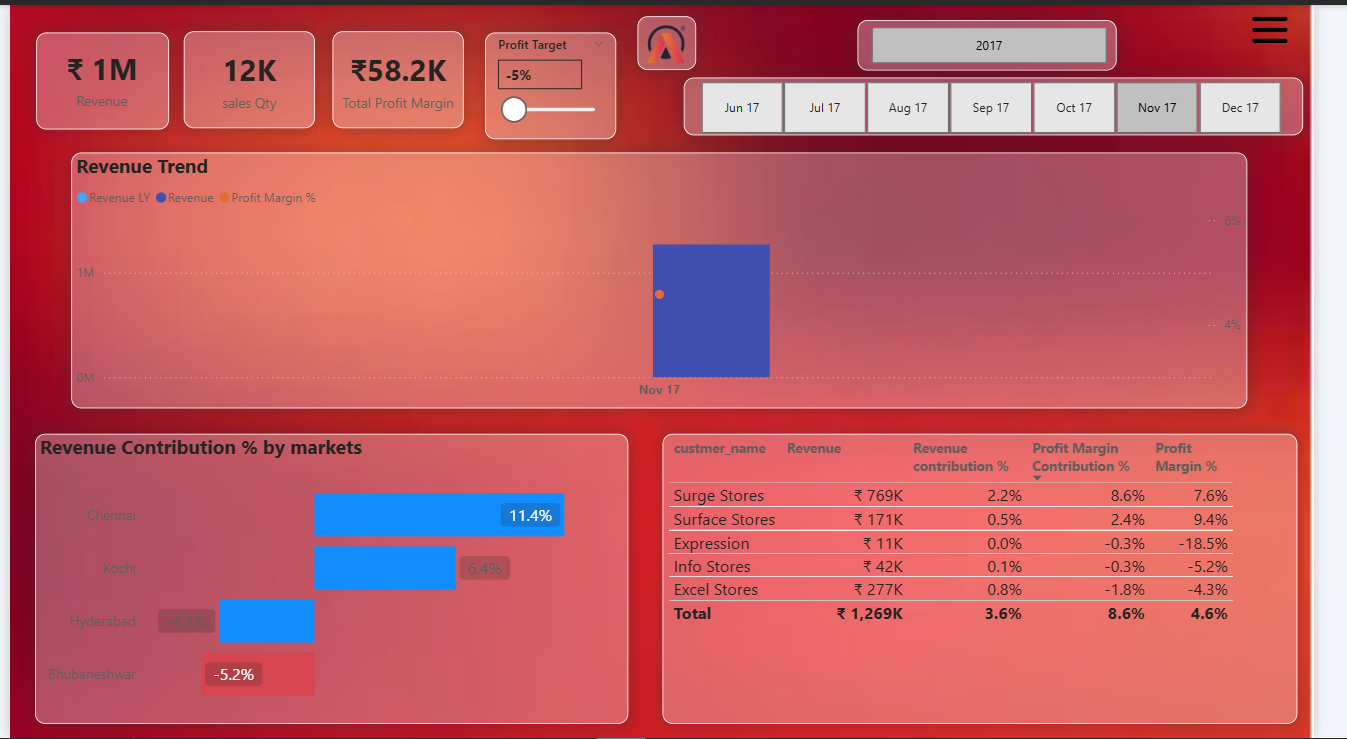

The page's visual inventory and layout, read from the dashboard file:
{"tool":"powerbi","page":{"name":"Performance Insights","canvas":[1280,720],"ordinal":2},"visuals":[{"type":"image","box":[1214.8,3,44.4,44.4],"z":0},{"type":"shape","box":[25.3,26.5,130.3,95.3],"z":5000},{"type":"card","fields":{"Values":["Base Measures 2.Revenue"]},"box":[25.3,25.3,129,91.7],"z":6000},{"type":"shape","box":[24.1,420.9,582.5,284.6],"z":7000},{"type":"barChart","title":"Revenue Contribution % by markets","fields":{"Category":["sales markets.zone","sales markets.markets_name"],"Y":["Base Measures 2.Profit Margin %"]},"box":[24.1,420.9,582.5,284.6],"z":8000},{"type":"shape","box":[60.3,144.7,1154.2,250.9],"z":9000},{"type":"lineClusteredColumnComboChart","title":"Revenue Trend","fields":{"Category":["sales date.cy_date"],"Y":["Base Measures 2.Revenue LY","Base Measures 2.Revenue"],"Y2":["Base Measures 2.Profit Margin %"]},"box":[60.3,144.7,1154.2,250.9],"z":10000},{"type":"shape","box":[640.4,420.9,623.5,284.6],"z":11000},{"type":"tableEx","title":"Top 5 customer","fields":{"Values":["sales customers.custmer_name","Base Measures 2.Revenue","Base Measures 2.Revenue contribution %","Base Measures 2.Profit Margin Contribution %","Base Measures 2.Profit Margin %"]},"box":[640.4,420.9,623.5,284.6],"z":12000},{"type":"shape","box":[832.2,14.5,254.5,49.4],"z":13000},{"type":"slicer","fields":{"Values":["sales date.year"]},"box":[820.1,14.5,281,49.4],"z":14000},{"type":"shape","box":[660.9,71.2,607.8,56.7],"z":15000},{"type":"slicer","fields":{"Values":["sales date.cy_date"]},"box":[652.5,68.7,618.7,63.9],"z":16000},{"type":"shape","box":[170.1,25.3,129,95.3],"z":17000},{"type":"shape","box":[316,25.3,129,95.3],"z":18000},{"type":"shape","box":[466.7,26.5,129,104.9],"z":19000},{"type":"card","fields":{"Values":["Base Measures 2.sales Qty"]},"box":[170.1,25.3,129,95.3],"z":20000},{"type":"card","fields":{"Values":["Base Measures 2.Total Profit Margin"]},"box":[316,25.3,129,95.3],"z":21000},{"type":"slicer","fields":{"Values":["Profit Target.Profit Target"]},"box":[466.7,25.3,129,104.9],"z":22000},{"type":"shape","box":[616.3,10.9,57.9,53.1],"z":23000},{"type":"image","box":[617.5,14.5,54.3,47],"z":24000}]}

Visuals, with their boxes in screenshot pixels (x1, y1, x2, y2), scaled from the page's 1280x720 canvas onto the 1347x739 screenshot:
image: box(1278, 3, 1325, 49)
shape: box(27, 27, 164, 125)
card - Base Measures 2.Revenue: box(27, 26, 162, 120)
shape: box(25, 432, 638, 724)
"Revenue Contribution % by markets" barChart: box(25, 432, 638, 724)
shape: box(63, 149, 1278, 406)
"Revenue Trend" lineClusteredColumnComboChart: box(63, 149, 1278, 406)
shape: box(674, 432, 1330, 724)
"Top 5 customer" tableEx: box(674, 432, 1330, 724)
shape: box(876, 15, 1144, 66)
slicer - sales date.year: box(863, 15, 1159, 66)
shape: box(695, 73, 1335, 131)
slicer - sales date.cy_date: box(687, 71, 1338, 136)
shape: box(179, 26, 315, 124)
shape: box(333, 26, 468, 124)
shape: box(491, 27, 627, 135)
card - Base Measures 2.sales Qty: box(179, 26, 315, 124)
card - Base Measures 2.Total Profit Margin: box(333, 26, 468, 124)
slicer - Profit Target.Profit Target: box(491, 26, 627, 134)
shape: box(649, 11, 709, 66)
image: box(650, 15, 707, 63)
